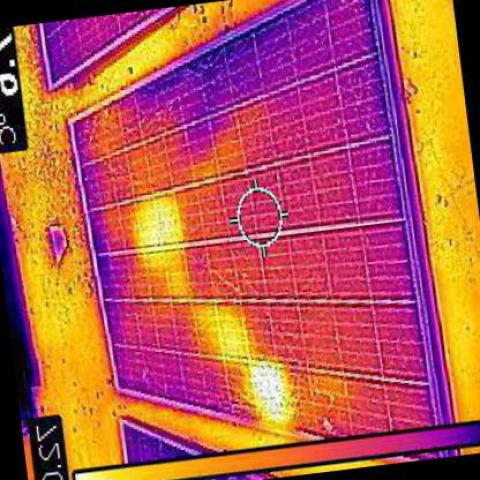fault: (136, 199, 180, 242), (256, 360, 290, 407), (218, 311, 248, 355)
